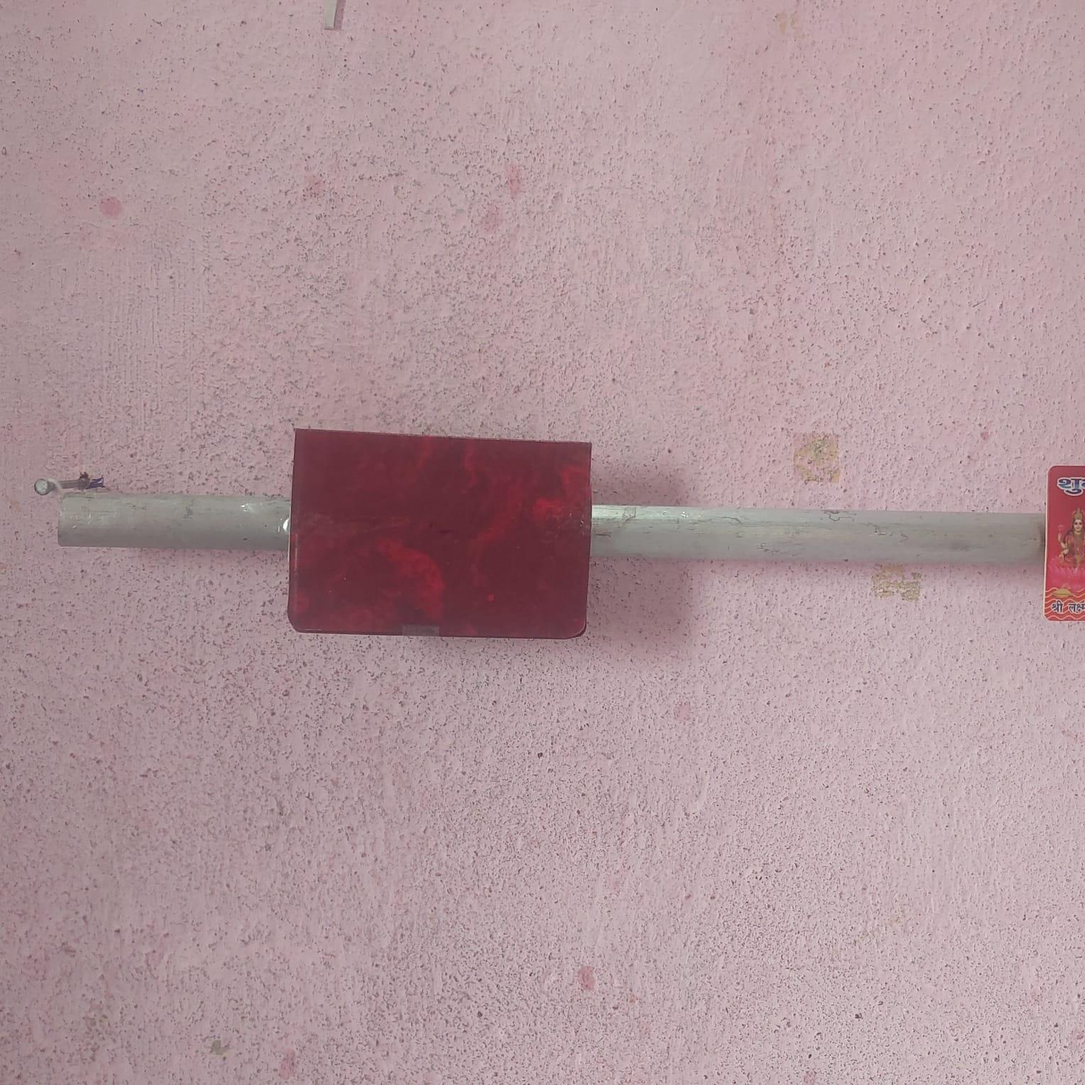wallet: (275, 420, 599, 642)
